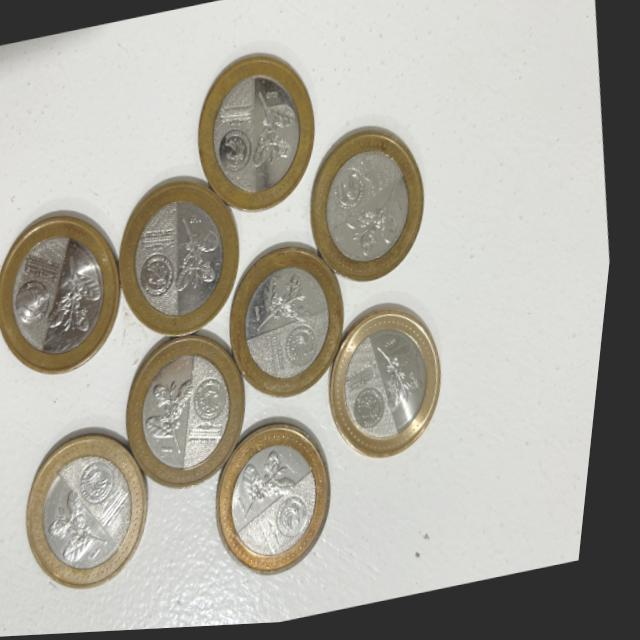20_New_Back: (42, 249, 117, 345), (236, 92, 304, 187), (147, 370, 215, 461), (341, 192, 416, 267), (376, 336, 439, 425), (173, 215, 235, 300), (55, 489, 121, 566), (253, 273, 321, 340), (245, 452, 310, 520)
